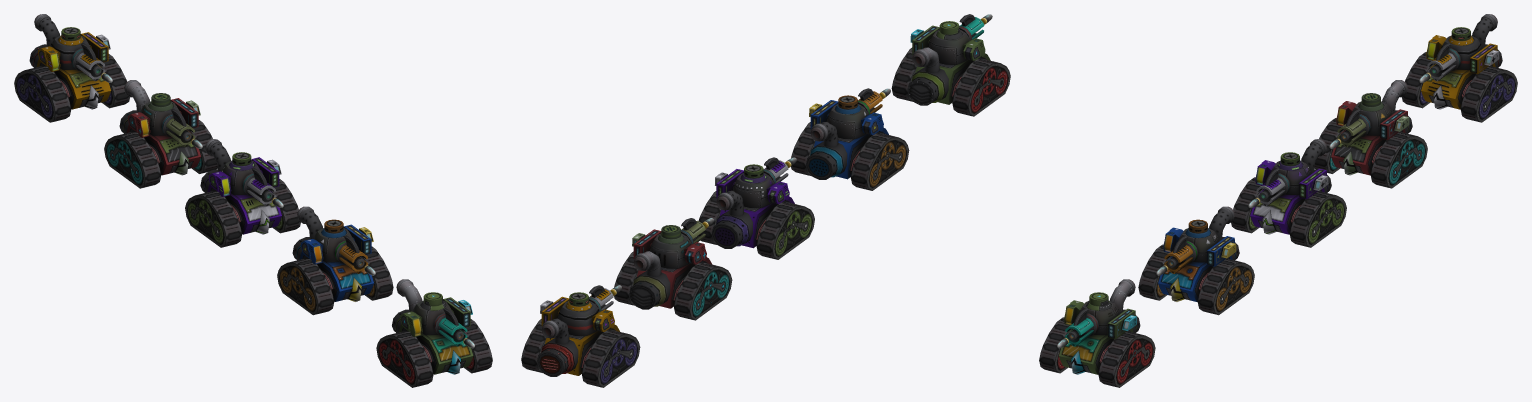
Rendered from SciFi Ultra Tank 1.FBX.
The picture shows the model from 3 angles, left to right: view 1: azimuth 30°, elevation 25°; view 2: azimuth 150°, elevation 25°; view 3: azimuth 330°, elevation 25°; orthographic projection. The views are drawn at different scales.
Visible parts, largest first — view 1: SciFi Ultra Tank 1, SciFi Ultra Tank 1.2, SciFi Ultra Tank 1.3, SciFi Ultra Tank 1.5, SciFi Ultra Tank 1.4, SciFi Ultra Tank 1.4_turret (×3), SciFi Ultra Tank 1_turret (×3), SciFi Ultra Tank 1.5_turret (×3), SciFi Ultra Tank 1.3_turret (×3), SciFi Ultra Tank 1.2_turret (×3); view 2: SciFi Ultra Tank 1, SciFi Ultra Tank 1.5, SciFi Ultra Tank 1.2, SciFi Ultra Tank 1.4, SciFi Ultra Tank 1.3, SciFi Ultra Tank 1_turret (×3), SciFi Ultra Tank 1.5_turret (×3), SciFi Ultra Tank 1.2_turret (×3), SciFi Ultra Tank 1.3_turret (×3), SciFi Ultra Tank 1.4_turret (×3); view 3: SciFi Ultra Tank 1.2, SciFi Ultra Tank 1, SciFi Ultra Tank 1.3, SciFi Ultra Tank 1.5, SciFi Ultra Tank 1.4, SciFi Ultra Tank 1_turret (×3), SciFi Ultra Tank 1.3_turret (×3), SciFi Ultra Tank 1.5_turret (×3), SciFi Ultra Tank 1.4_turret (×3), SciFi Ultra Tank 1.2_turret (×3).
Part boxes in pixels (left/top/right/bottom): SciFi Ultra Tank 1: left=376, top=279, right=492, bottom=387; SciFi Ultra Tank 1.2: left=277, top=206, right=393, bottom=315; SciFi Ultra Tank 1.3: left=185, top=139, right=300, bottom=247; SciFi Ultra Tank 1.5: left=14, top=14, right=129, bottom=122; SciFi Ultra Tank 1.4: left=104, top=80, right=217, bottom=188; SciFi Ultra Tank 1.4_turret (×3): left=128, top=93, right=200, bottom=147; SciFi Ultra Tank 1_turret (×3): left=400, top=292, right=472, bottom=346; SciFi Ultra Tank 1.5_turret (×3): left=38, top=27, right=110, bottom=81; SciFi Ultra Tank 1.3_turret (×3): left=209, top=152, right=281, bottom=206; SciFi Ultra Tank 1.2_turret (×3): left=301, top=219, right=373, bottom=273; SciFi Ultra Tank 1: left=891, top=47, right=1010, bottom=116; SciFi Ultra Tank 1.5: left=521, top=318, right=640, bottom=387; SciFi Ultra Tank 1.2: left=791, top=122, right=909, bottom=190; SciFi Ultra Tank 1.4: left=614, top=251, right=732, bottom=320; SciFi Ultra Tank 1.3: left=697, top=190, right=814, bottom=259; SciFi Ultra Tank 1_turret (×3): left=910, top=14, right=985, bottom=64; SciFi Ultra Tank 1.5_turret (×3): left=540, top=285, right=614, bottom=335; SciFi Ultra Tank 1.2_turret (×3): left=809, top=88, right=883, bottom=138; SciFi Ultra Tank 1.3_turret (×3): left=715, top=157, right=789, bottom=207; SciFi Ultra Tank 1.4_turret (×3): left=632, top=218, right=706, bottom=268; SciFi Ultra Tank 1.2: left=1138, top=206, right=1254, bottom=315; SciFi Ultra Tank 1: left=1039, top=279, right=1155, bottom=387; SciFi Ultra Tank 1.3: left=1231, top=139, right=1346, bottom=247; SciFi Ultra Tank 1.5: left=1402, top=14, right=1517, bottom=122; SciFi Ultra Tank 1.4: left=1314, top=80, right=1427, bottom=188; SciFi Ultra Tank 1_turret (×3): left=1064, top=292, right=1136, bottom=346; SciFi Ultra Tank 1.3_turret (×3): left=1255, top=152, right=1328, bottom=206; SciFi Ultra Tank 1.5_turret (×3): left=1426, top=27, right=1499, bottom=81; SciFi Ultra Tank 1.4_turret (×3): left=1336, top=93, right=1409, bottom=147; SciFi Ultra Tank 1.2_turret (×3): left=1163, top=219, right=1236, bottom=273.
Size of the model in its own units: 305 by 274 by 3067.
Materials: 5 (5 with a texture image).
